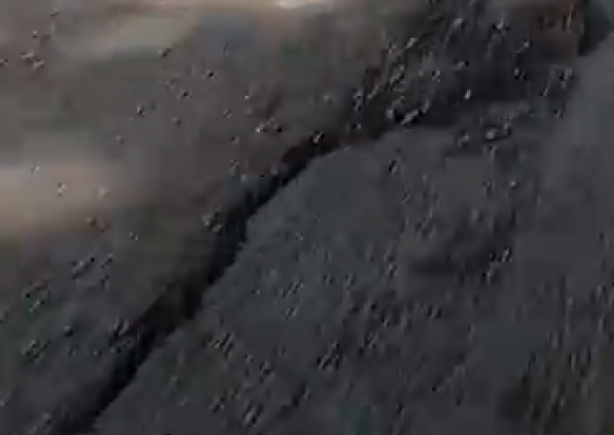Berlubang: (41, 129, 318, 435), (282, 4, 614, 157), (371, 207, 529, 300)
